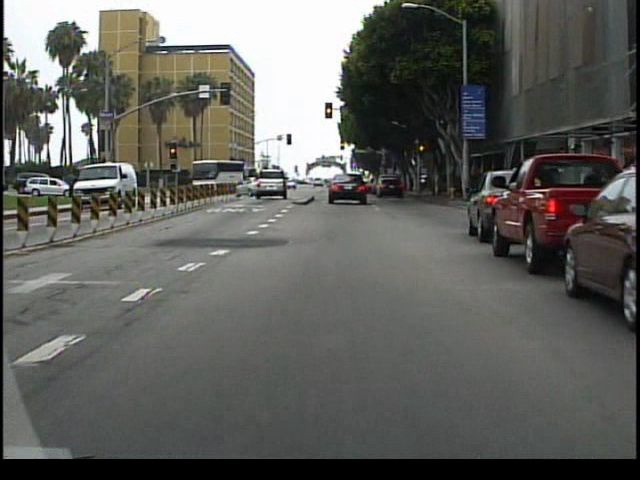person: (85, 174, 98, 208), (68, 169, 81, 200), (81, 172, 93, 203)
